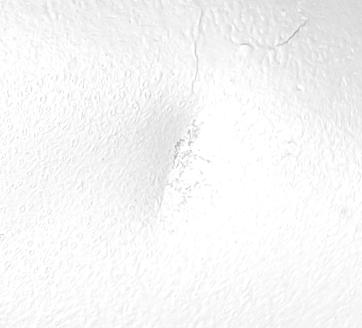dent: (1, 1, 361, 328)
